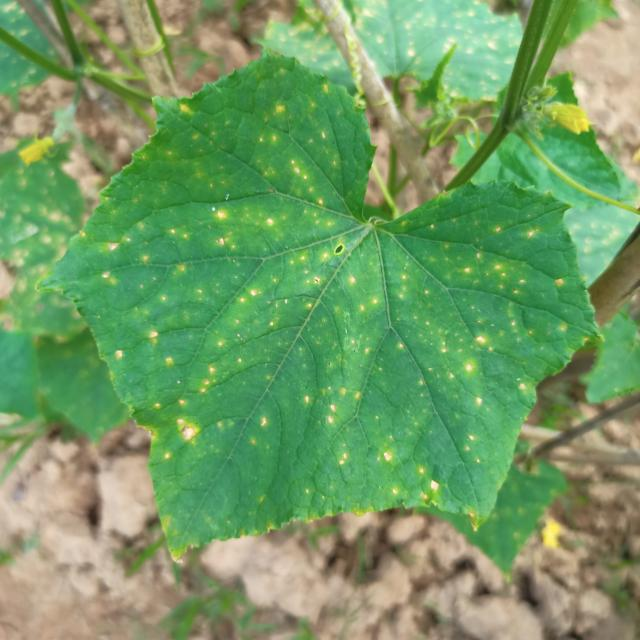disease_cucumber: (107, 92, 552, 532)
